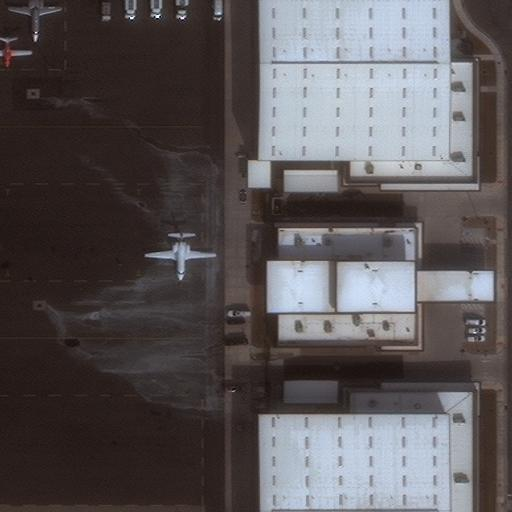Medium Civil Transport: (144, 231, 216, 281)
Small Civil Transport: (7, 0, 62, 43), (0, 35, 32, 67)
